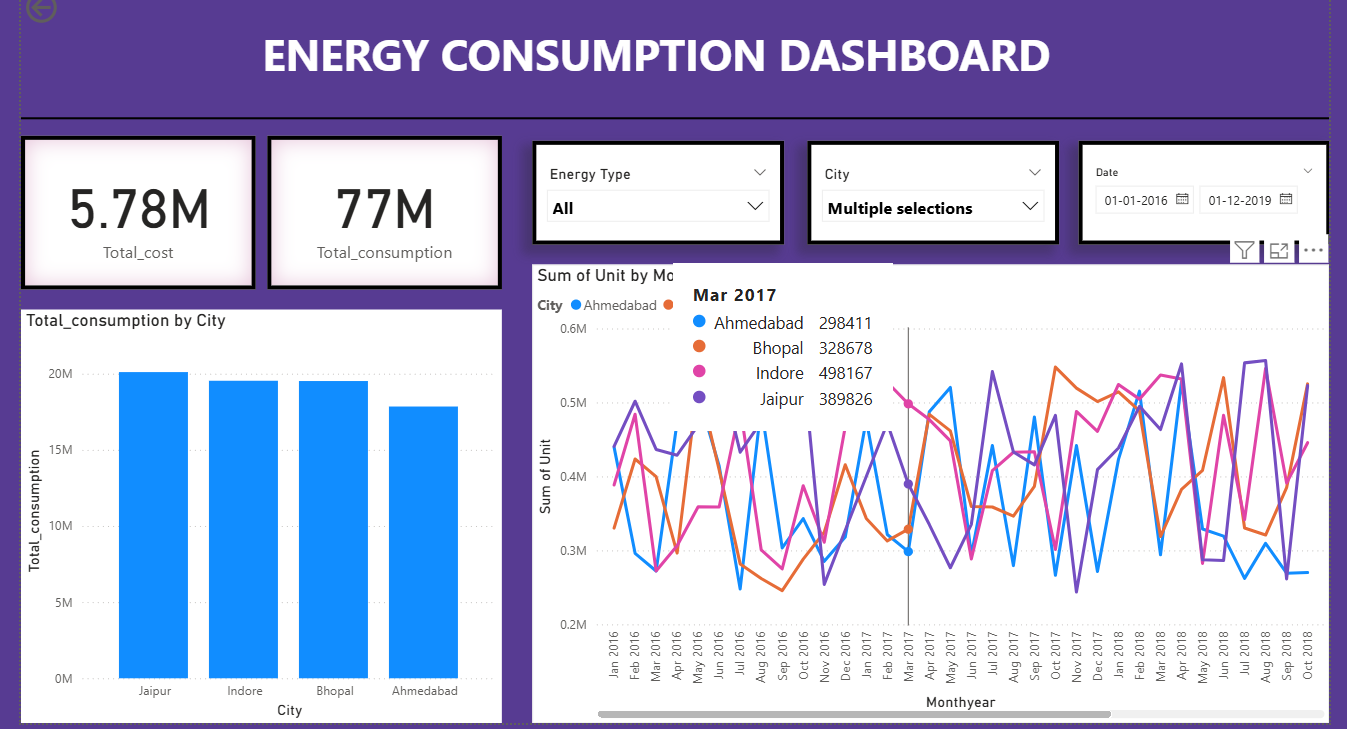

Layout of this report page (visuals, bound fields, positions):
{"tool":"powerbi","page":{"name":"Page 1","canvas":[1280,720],"ordinal":0},"visuals":[{"type":"shape","box":[0,82.3,1280.3,93],"z":0},{"type":"textbox","box":[231.1,30.6,816.9,68.5],"z":3000},{"type":"card","fields":{"Values":["Measures (2).Total_cost"]},"box":[0,146,229.8,150.1],"z":4000},{"type":"actionButton","box":[0,0,100,40],"z":5000},{"type":"card","fields":{"Values":["Measures (2).Total_consumption"]},"box":[240.6,146,229.8,150.1],"z":6000},{"type":"slicer","fields":{"Values":["Rates.Energy Type"]},"box":[500.2,150.1,246.1,101.4],"z":7000},{"type":"slicer","fields":{"Values":["Energy Consumptions.Building"]},"box":[769.2,150.1,246.1,101.4],"z":8000},{"type":"slicer","fields":{"Values":["Energy Consumptions.Date"]},"box":[1034.2,150.1,246.1,101.4],"z":9000},{"type":"lineChart","fields":{"Series":["Energy Consumptions.City"],"Y":["Sum(Energy Consumptions.Unit)"],"Category":["Energy Consumptions.Monthyear"]},"box":[500.1,271.5,780.2,448.8],"z":10000},{"type":"clusteredColumnChart","fields":{"Category":["Energy Consumptions.City"],"Y":["Measures (2).Total_consumption"]},"box":[0,315.5,470.8,404.8],"z":11000}]}

Visuals, with their boxes on the page's 1280x720 design canvas (x1, y1, x2, y2). These are canvas units, not pixel positions in the 1347x729 screenshot, which may show the page scaled, cropped or inside an application window:
shape: (0,82,1280,175)
textbox: (231,31,1048,99)
card - Measures (2).Total_cost: (0,146,230,296)
actionButton: (0,0,100,40)
card - Measures (2).Total_consumption: (241,146,470,296)
slicer - Rates.Energy Type: (500,150,746,252)
slicer - Energy Consumptions.Building: (769,150,1015,252)
slicer - Energy Consumptions.Date: (1034,150,1280,252)
lineChart - Energy Consumptions.City x Sum(Energy Consumptions.Unit): (500,272,1280,720)
clusteredColumnChart - Energy Consumptions.City x Measures (2).Total_consumption: (0,316,471,720)
